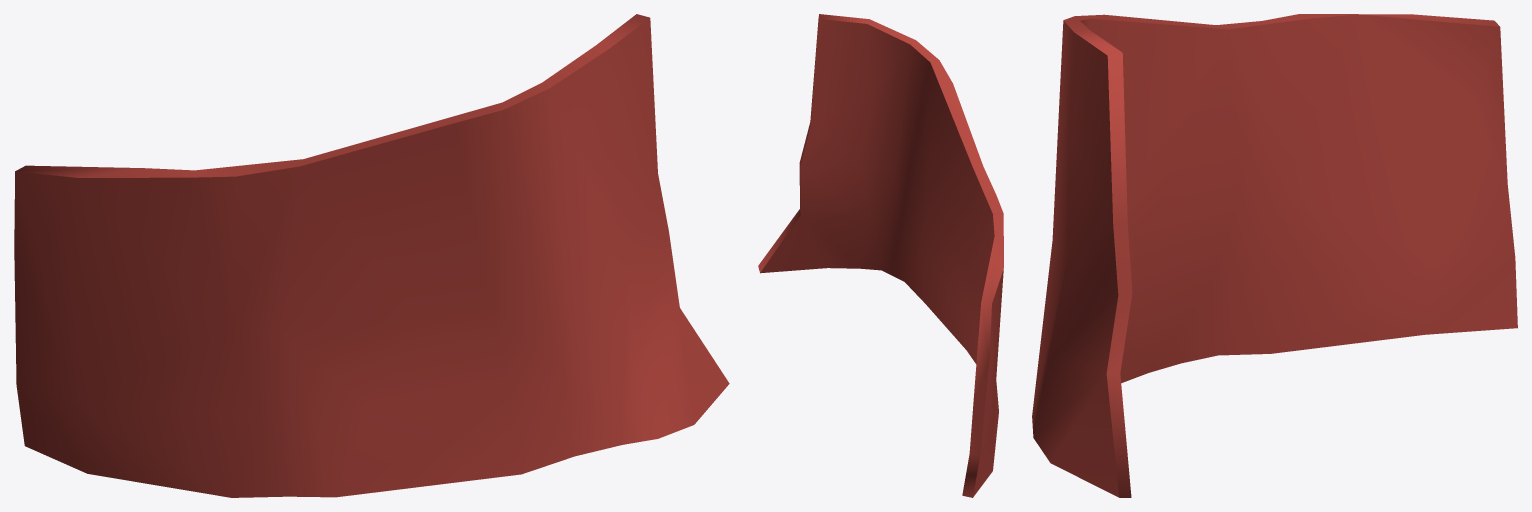
Rendered from musculos-superior-extensor-retinaculum-of-ankle-r.glb.
3 views of the same model, side by side, from view 1: azimuth 30°, elevation 25°; view 2: azimuth 150°, elevation 25°; view 3: azimuth 270°, elevation 25° (orthographic). The views are drawn at different scales.
Parts seen in each view (by area): view 1: Superior extensor retinaculum of ankle.r; view 2: Superior extensor retinaculum of ankle.r; view 3: Superior extensor retinaculum of ankle.r.
Boxes of the visible parts, <box> form: Superior extensor retinaculum of ankle.r: <box>14,14,729,497</box>; Superior extensor retinaculum of ankle.r: <box>758,14,1003,497</box>; Superior extensor retinaculum of ankle.r: <box>1032,14,1517,497</box>.
Size of the model in its own units: 0.0373 by 0.0315 by 0.0289.
